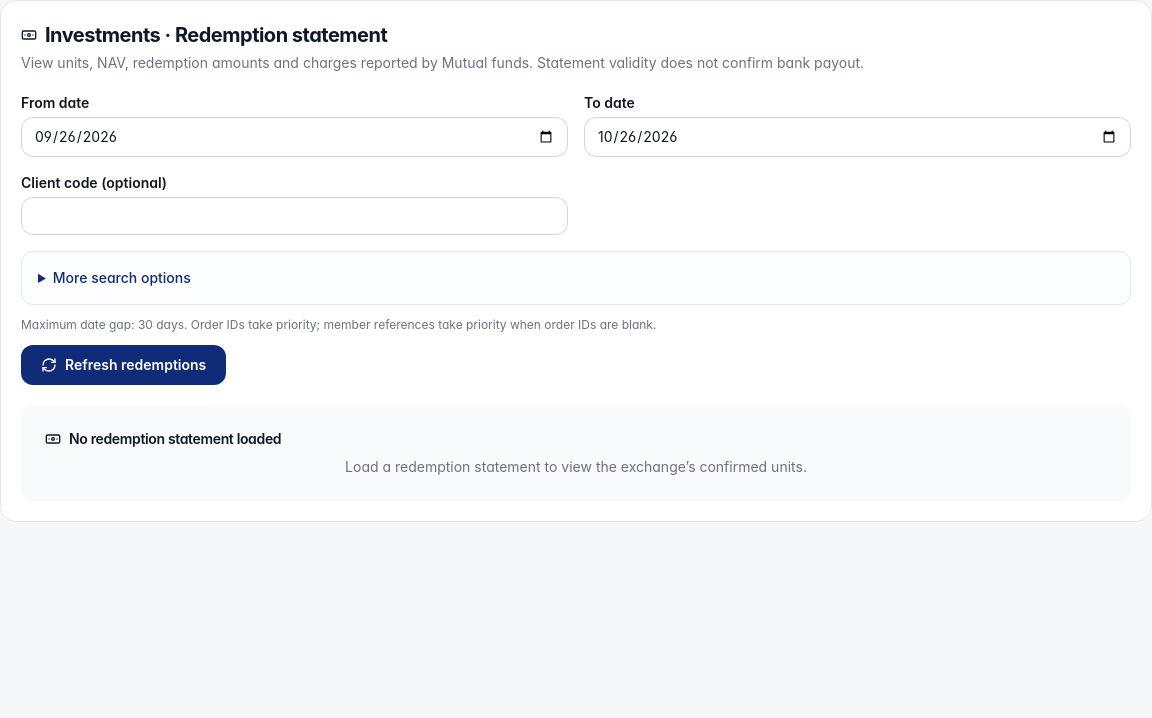
Test: loads actual statement fields and makes no bank payout claim
Click the button "Refresh redemptions": [124, 365] box [21,345,226,385]
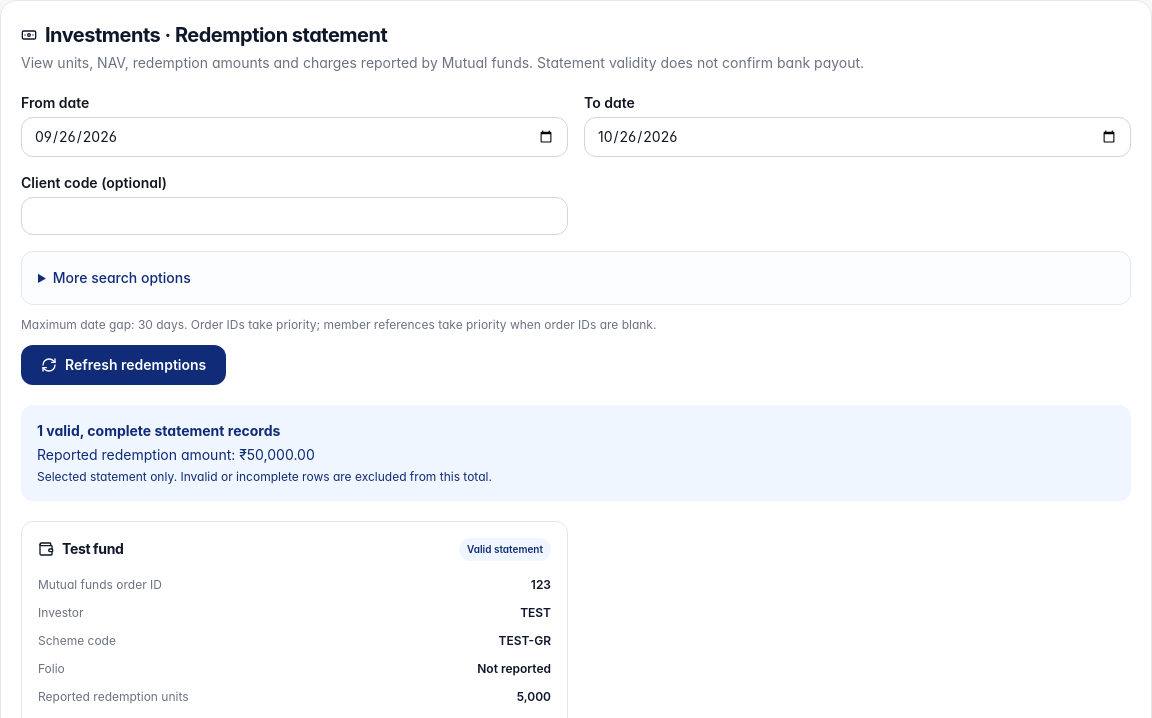
Check: the text "Statement validity does not confirm bank payout" is shown, box [21,54,864,71]
Check: the heading "Test fund" is shown, box [38,538,124,561]
Check: the text "Valid statement" is shown, box [459,538,551,561]
